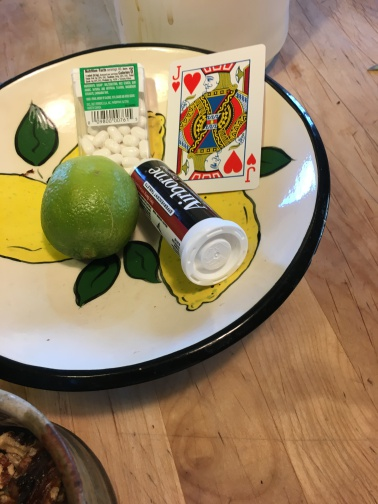jack: (163, 43, 265, 192)
